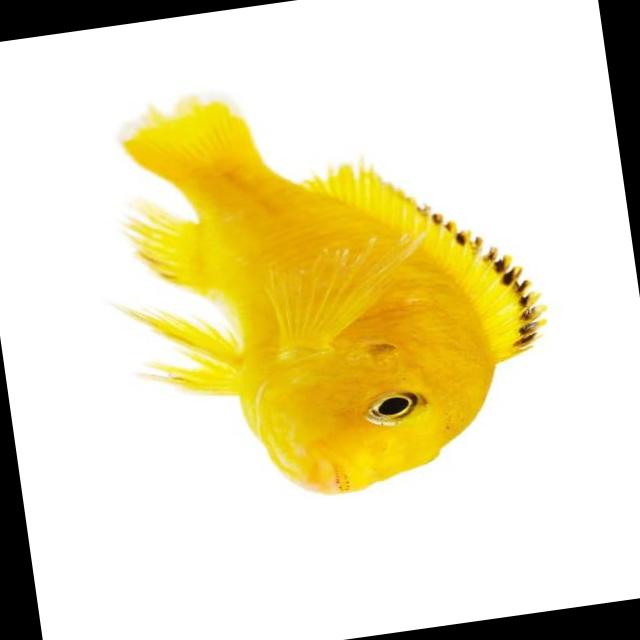YellowCichlid: (68, 34, 580, 536)
